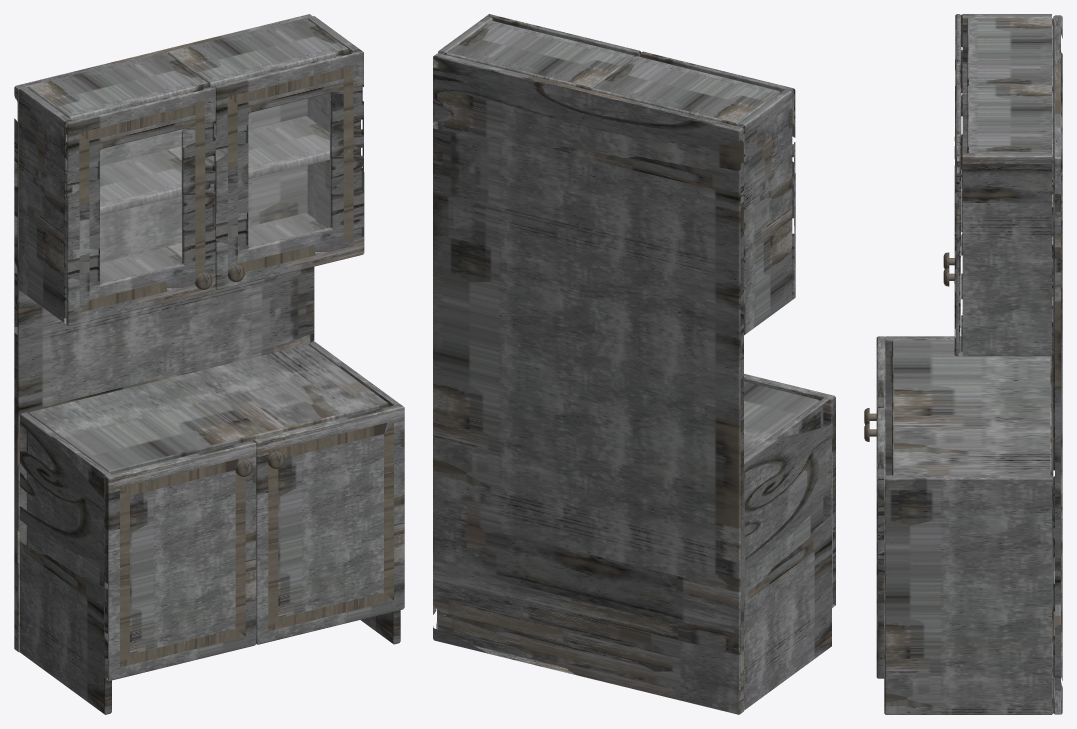
Rendered from CabinetWithShelves.fbx.
3 views of the same model, side by side, from view 1: azimuth 30°, elevation 25°; view 2: azimuth 150°, elevation 25°; view 3: azimuth 270°, elevation 25° (orthographic). The views are drawn at different scales.
Parts seen in each view (by area): view 1: Cabinet_Back_A.006_Material_0, LowerLeftCabinet, LowerRightCabinet, CabinetWithShelves, Cabinet_Side_B.005_Material_0, UpperRightCabinet, UpperLeftCabinet, Cabinet_Shelf_B.003_Material_0, UpperRightCabinetGlass, UpperLeftCabinetGlass, Cabinet_Side_C.005_Material_0, Cabinet_Shelf_B.005_Material_0 (+3 smaller); view 2: Cabinet_Back_A.006_Material_0, Cabinet_Side_B.005_Material_0, Cabinet_Shelf_B.003_Material_0, Cabinet_Side_C.005_Material_0, CabinetWithShelves, LowerLeftCabinet, UpperLeftCabinet, UpperRightCabinet; view 3: Cabinet_Side_B.006_Material_0, CabinetWithShelves, Cabinet_Side_C.006_Material_0, Cabinet_Shelf_B.003_Material_0, Cabinet_Back_A.006_Material_0, LowerRightCabinet, UpperRightCabinet, Cabinet_Side_B.005_Material_0, Cabinet_Side_C.005_Material_0, LowerLeftCabinet, UpperLeftCabinet.
Part boxes in pixels (bbox=[...]): Cabinet_Back_A.006_Material_0: bbox=[14, 14, 314, 652]; LowerLeftCabinet: bbox=[104, 440, 256, 680]; LowerRightCabinet: bbox=[253, 404, 404, 644]; CabinetWithShelves: bbox=[29, 344, 388, 474]; Cabinet_Side_B.005_Material_0: bbox=[20, 412, 111, 714]; UpperRightCabinet: bbox=[214, 50, 364, 290]; UpperLeftCabinet: bbox=[66, 86, 215, 326]; Cabinet_Shelf_B.003_Material_0: bbox=[27, 18, 349, 120]; UpperRightCabinetGlass: bbox=[248, 93, 330, 246]; UpperLeftCabinetGlass: bbox=[100, 130, 181, 282]; Cabinet_Side_C.005_Material_0: bbox=[19, 86, 72, 323]; Cabinet_Shelf_B.005_Material_0: bbox=[72, 116, 343, 215]; Cabinet_Back_A.006_Material_0: bbox=[433, 53, 743, 714]; Cabinet_Side_B.005_Material_0: bbox=[744, 397, 831, 710]; Cabinet_Shelf_B.003_Material_0: bbox=[446, 20, 780, 125]; Cabinet_Side_C.005_Material_0: bbox=[737, 89, 792, 335]; CabinetWithShelves: bbox=[744, 381, 819, 456]; LowerLeftCabinet: bbox=[744, 374, 835, 607]; UpperLeftCabinet: bbox=[640, 51, 795, 299]; UpperRightCabinet: bbox=[486, 14, 641, 56]; Cabinet_Side_B.006_Material_0: bbox=[884, 475, 1053, 714]; CabinetWithShelves: bbox=[892, 340, 1051, 475]; Cabinet_Side_C.006_Material_0: bbox=[961, 153, 1053, 356]; Cabinet_Shelf_B.003_Material_0: bbox=[967, 18, 1053, 159]; Cabinet_Back_A.006_Material_0: bbox=[1053, 15, 1062, 714]; LowerRightCabinet: bbox=[876, 408, 885, 678]; UpperRightCabinet: bbox=[954, 85, 961, 356]; Cabinet_Side_B.005_Material_0: bbox=[885, 336, 1053, 476]; Cabinet_Side_C.005_Material_0: bbox=[961, 14, 1051, 188]; LowerLeftCabinet: bbox=[876, 336, 885, 408]; UpperLeftCabinet: bbox=[954, 14, 961, 283].
Size of the model in its own units: 110 by 200 by 64.5.
